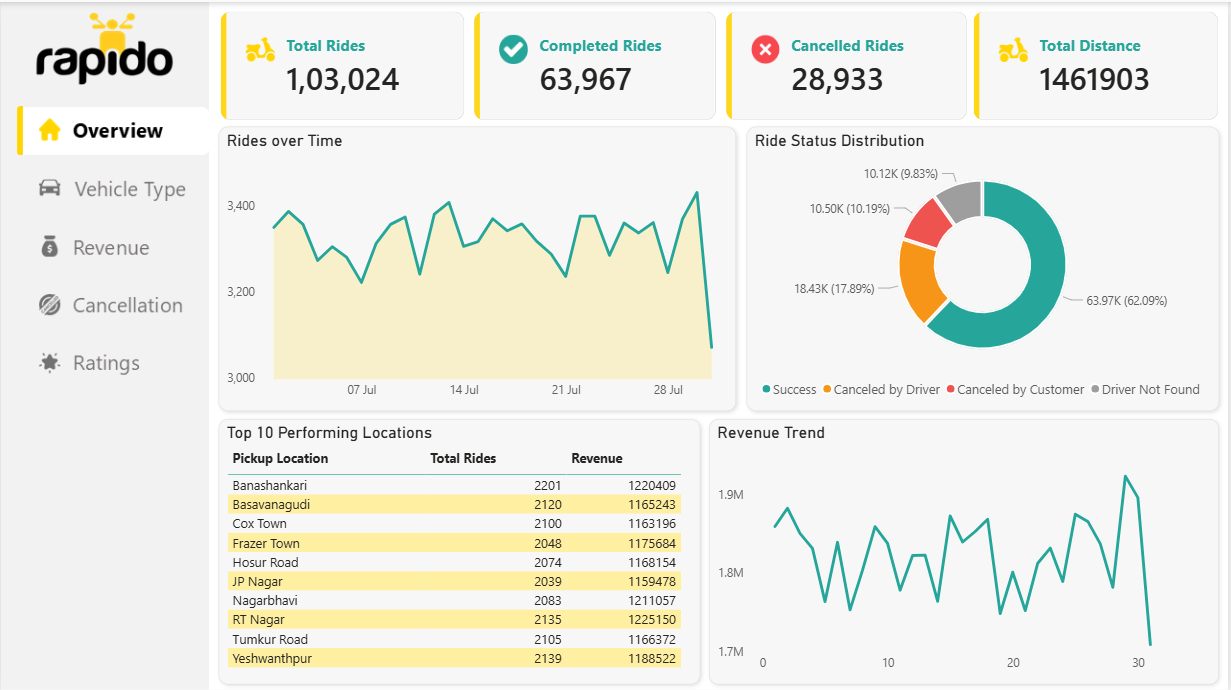

What the dashboard file says about the page in this screenshot:
{"tool":"powerbi","page":{"name":"Overview","canvas":[1280,720],"ordinal":0},"visuals":[{"type":"actionButton","box":[28.3,168.3,175,51.7],"z":0},{"type":"actionButton","box":[28.3,228.3,175,51.7],"z":1000},{"type":"actionButton","box":[28.3,291.7,175,51.7],"z":2000},{"type":"actionButton","box":[28.3,346.7,175,51.7],"z":3000},{"type":"lineChart","title":"Revenue Trend","fields":{"Category":["Bookings.Date.Variation.Date Hierarchy.Day"],"Y":["Sum(Bookings.Booking_Value)"]},"box":[737.7,434.5,531.4,276.6],"z":4000},{"type":"donutChart","title":"Ride Status Distribution","fields":{"Category":["Bookings.Booking_Status"],"Y":["CountNonNull(Bookings.Booking_ID)"]},"box":[776.8,129.7,492.3,297],"z":5000},{"type":"cardVisual","fields":{"Data":["CountNonNull(Bookings.Booking_ID)"]},"box":[223.5,4.7,264.1,123.5],"z":6000},{"type":"cardVisual","fields":{"Data":["CountNonNull(Bookings.Booking_Status)"]},"box":[487.7,4.7,262.6,123.5],"z":7000},{"type":"areaChart","title":"Rides over Time","fields":{"Category":["Bookings.Date"],"Y":["CountNonNull(Bookings.Booking_ID)"]},"box":[226.7,130,539.2,296.7],"z":8000},{"type":"tableEx","title":"Top 10 Performing Locations","fields":{"Values":["Bookings.Pickup_Location","Bookings.Booking_ID","Sum(Bookings.Booking_Value)"]},"box":[226.7,434.2,501.7,276.7],"z":9000},{"type":"cardVisual","fields":{"Data":["CountNonNull(Bookings.Booking_Status)"]},"box":[750.2,4.7,261,123.5],"z":10000},{"type":"cardVisual","fields":{"Data":["Sum(Bookings.Ride_Distance)"]},"box":[1008.3,5,265,123.3],"z":11000}]}

Visuals, with their boxes on the page's 1280x720 design canvas (x1, y1, x2, y2). These are canvas units, not pixel positions in the 1231x690 screenshot, which may show the page scaled, cropped or inside an application window:
actionButton: Rect(28, 168, 203, 220)
actionButton: Rect(28, 228, 203, 280)
actionButton: Rect(28, 292, 203, 343)
actionButton: Rect(28, 347, 203, 398)
"Revenue Trend" lineChart: Rect(738, 434, 1269, 711)
"Ride Status Distribution" donutChart: Rect(777, 130, 1269, 427)
cardVisual - CountNonNull(Bookings.Booking_ID): Rect(224, 5, 488, 128)
cardVisual - CountNonNull(Bookings.Booking_Status): Rect(488, 5, 750, 128)
"Rides over Time" areaChart: Rect(227, 130, 766, 427)
"Top 10 Performing Locations" tableEx: Rect(227, 434, 728, 711)
cardVisual - CountNonNull(Bookings.Booking_Status): Rect(750, 5, 1011, 128)
cardVisual - Sum(Bookings.Ride_Distance): Rect(1008, 5, 1273, 128)
